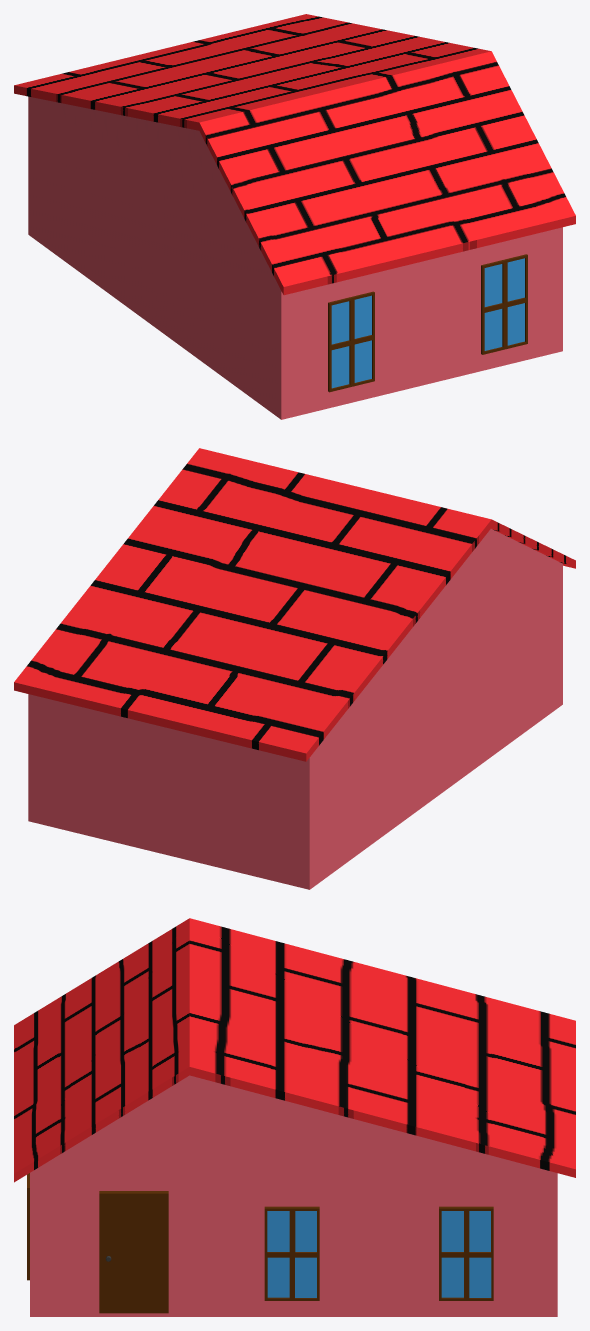
The model's file is House4.fbx.
3 renders of one model, top to bottom at view 1: azimuth 30°, elevation 25°; view 2: azimuth 150°, elevation 25°; view 3: azimuth 270°, elevation 25°, orthographic. The views are drawn at different scales.
Parts seen in each view (by area): view 1: Roof.002, WAlls.001, WindowGlass.005, WindowGlass.006, WindowPane.005, WindowPane.006; view 2: Roof.002, WAlls.001; view 3: Roof.002, WAlls.001, Door.001, WindowGlass.004, WindowGlass.003, WindowPane.003, WindowPane.004.
Boxes of the visible parts, x1,y1,x2,y2 form: Roof.002: [14, 14, 575, 295]; WAlls.001: [28, 96, 562, 419]; WindowGlass.005: [484, 258, 524, 350]; WindowGlass.006: [331, 295, 371, 388]; WindowPane.005: [481, 254, 527, 354]; WindowPane.006: [328, 291, 374, 392]; Roof.002: [14, 448, 575, 761]; WAlls.001: [28, 529, 562, 889]; Roof.002: [14, 918, 575, 1182]; WAlls.001: [30, 1075, 557, 1316]; Door.001: [99, 1191, 168, 1313]; WindowGlass.004: [441, 1211, 491, 1297]; WindowGlass.003: [267, 1211, 316, 1297]; WindowPane.003: [264, 1206, 319, 1300]; WindowPane.004: [439, 1206, 493, 1300].
Size of the model in its own units: 654 by 325 by 414.
